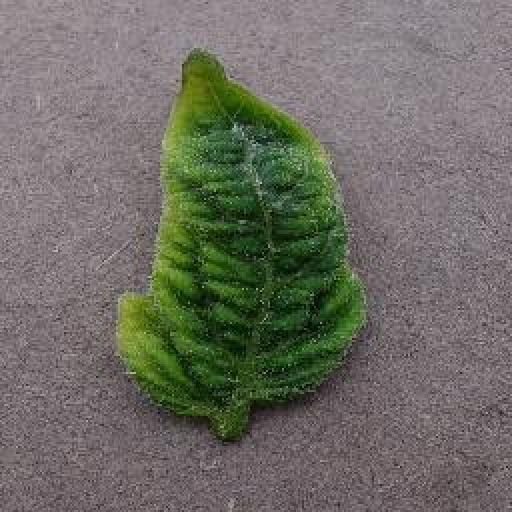disease_tomato: (113, 46, 368, 418)
